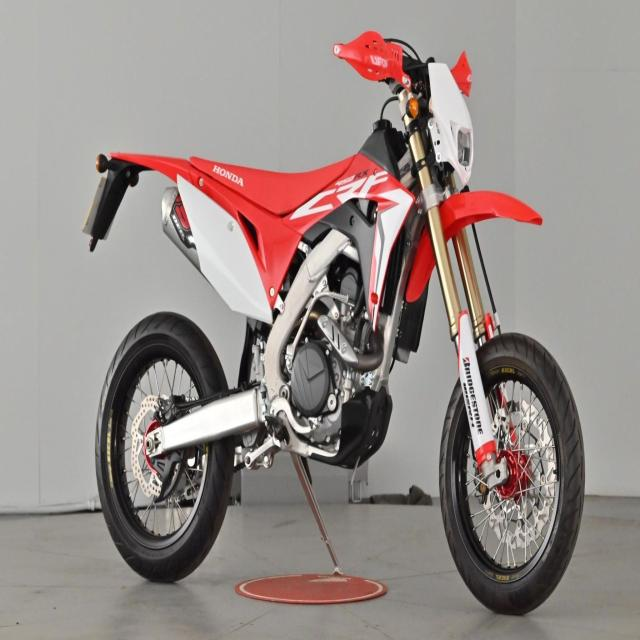Motorcycle: (83, 30, 585, 614)
